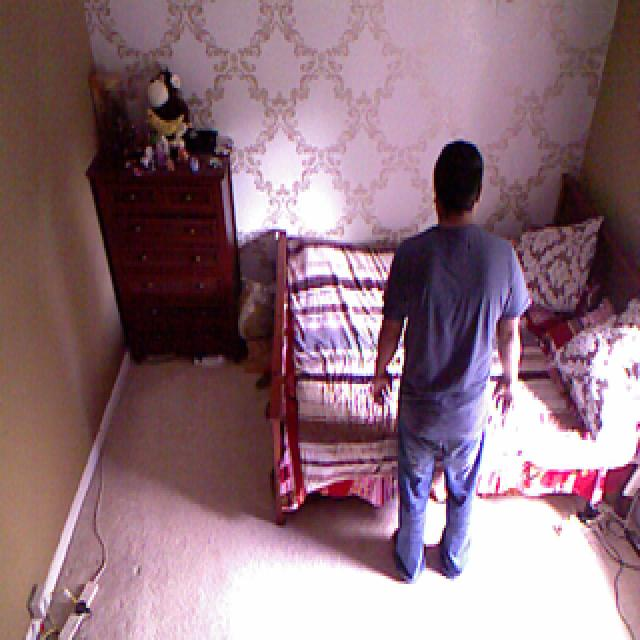standing: (372, 142, 528, 620)
